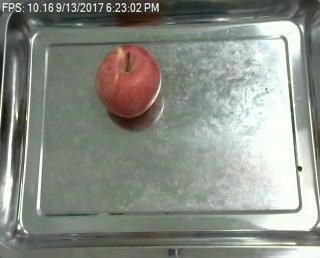apple: (94, 44, 161, 117)
